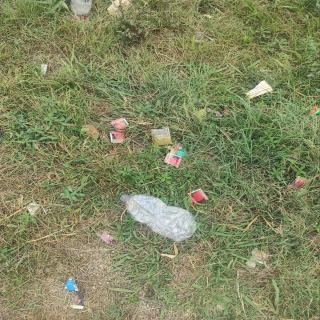Plastic-bottle: (119, 192, 200, 244)
